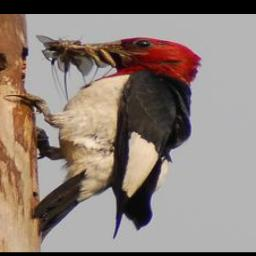Woodpecker: (6, 36, 200, 241)
